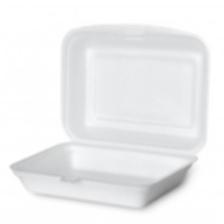foam_box: (6, 16, 214, 212)
